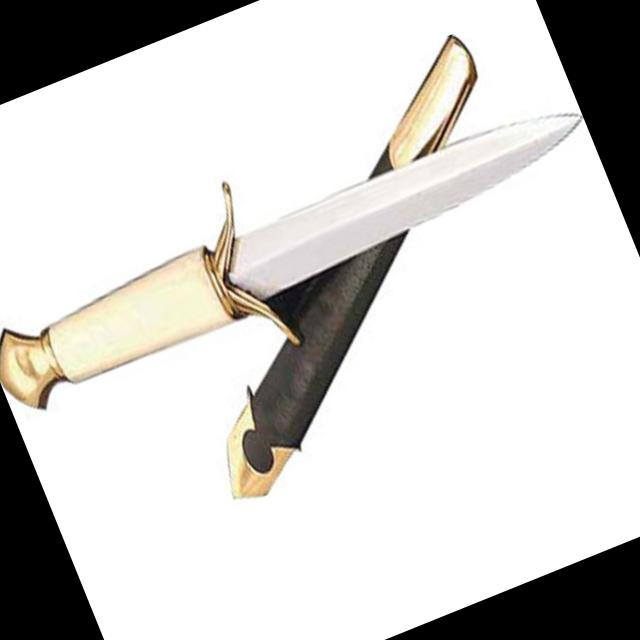knife: (0, 46, 621, 451)
